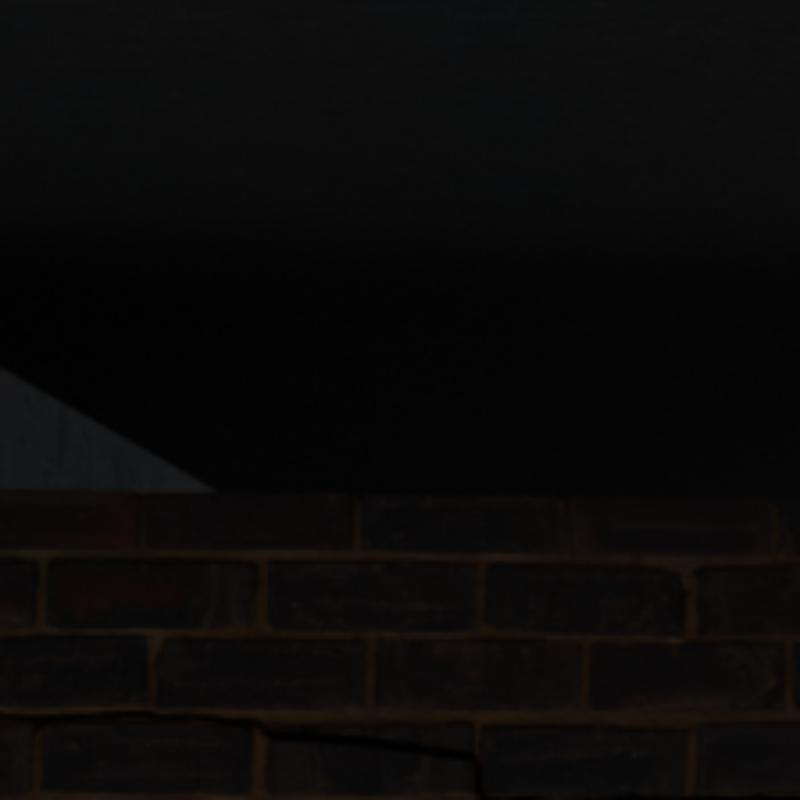crack: (0, 711, 486, 796)
